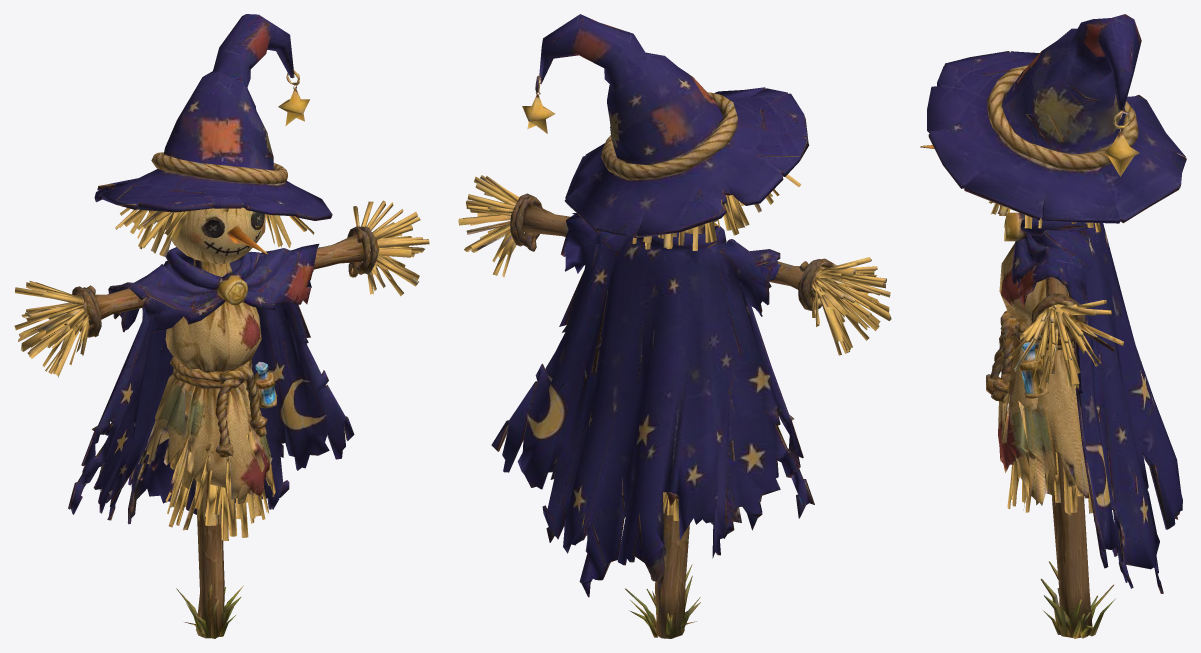
Rendered from scarecrow.glb.
The picture shows the model from 3 angles, left to right: view 1: azimuth 30°, elevation 25°; view 2: azimuth 150°, elevation 25°; view 3: azimuth 270°, elevation 25°; orthographic projection. The views are drawn at different scales.
Bounding box in the file's own units: 0.6777 × 0.9531 × 0.3544.
Materials: 1 (1 with a texture image).
